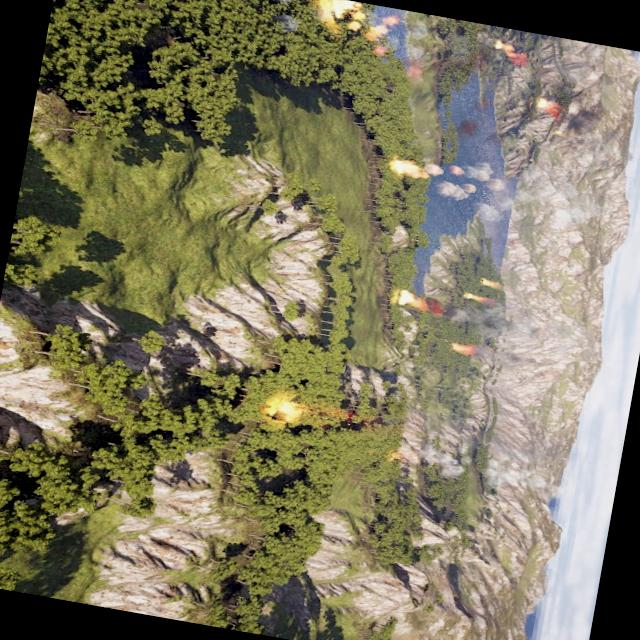fire: (326, 0, 365, 31), (269, 398, 302, 424), (386, 154, 419, 179), (396, 288, 414, 306), (449, 342, 472, 356), (532, 94, 550, 110), (460, 290, 483, 302), (478, 278, 497, 288), (493, 40, 502, 49)
smoke: (414, 146, 607, 240), (388, 427, 556, 496), (412, 288, 518, 338), (548, 98, 603, 138), (361, 10, 400, 58), (468, 342, 522, 368), (397, 55, 427, 83), (500, 44, 530, 68), (451, 117, 478, 140)
